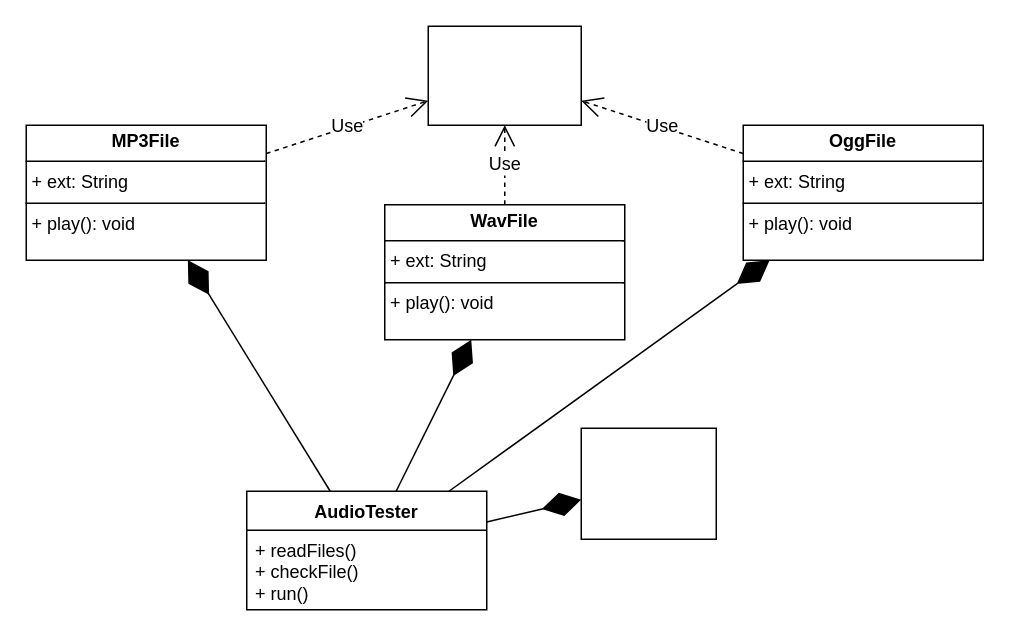
This 1010x641 diagram has some shape labels left out. Here are the shapes that lost their labels. From the top down, the centre of each, then its label:
(504,75): <<Interface>> AudioFile + __init__()
(648,483): FlacFile + play(): void
